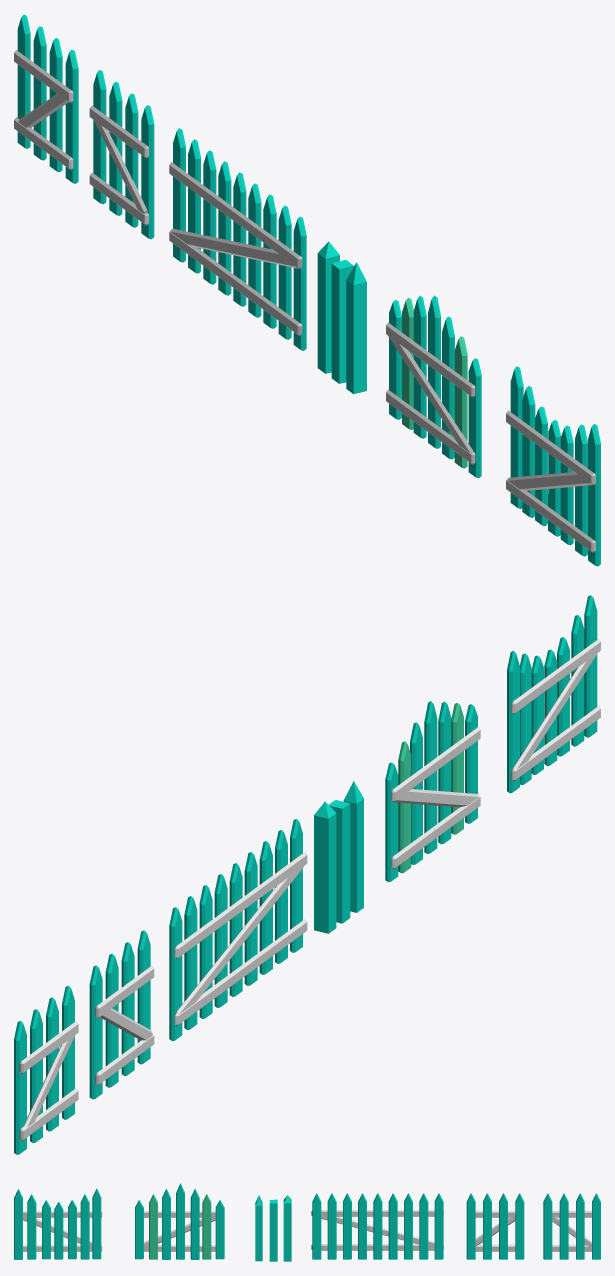
File: Try1Fence.fbx
The picture shows the model from 3 angles, top to bottom: view 1: azimuth 30°, elevation 25°; view 2: azimuth 150°, elevation 25°; view 3: azimuth 270°, elevation 25°; orthographic projection. The views are drawn at different scales.
Parts seen in each view (by area): view 1: VerticalStick, VerticalStick.008, VerticalStick.011, Pilar1_2, VerticalStick.002, VerticalStick.001, HorizontalStick, HorizontalStick.004, HorizontalStick.003, HorizontalStick.002, HorizontalStick.001, diagonalStick (+3 smaller); view 2: VerticalStick, VerticalStick.008, VerticalStick.011, Pilar1_2, VerticalStick.001, VerticalStick.002, HorizontalStick, HorizontalStick.004, HorizontalStick.003, diagonalStick, HorizontalStick.001, HorizontalStick.002 (+4 smaller); view 3: VerticalStick, VerticalStick.008, VerticalStick.011, VerticalStick.001, VerticalStick.002, Pilar1_2, HorizontalStick, HorizontalStick.004, HorizontalStick.003, diagonalStick, HorizontalStick.002, HorizontalStick.001 (+4 smaller).
Boxes of the visible parts, x1=… form: VerticalStick: x1=173, y1=128, x2=306, y2=350; VerticalStick.008: x1=389, y1=295, x2=481, y2=477; VerticalStick.011: x1=510, y1=366, x2=600, y2=566; Pilar1_2: x1=317, y1=241, x2=366, y2=394; VerticalStick.002: x1=17, y1=14, x2=78, y2=183; VerticalStick.001: x1=93, y1=70, x2=154, y2=239; HorizontalStick: x1=169, y1=162, x2=302, y2=335; HorizontalStick.004: x1=506, y1=410, x2=595, y2=552; HorizontalStick.003: x1=386, y1=322, x2=475, y2=464; HorizontalStick.002: x1=14, y1=50, x2=73, y2=170; HorizontalStick.001: x1=89, y1=105, x2=148, y2=225; diagonalStick: x1=171, y1=228, x2=297, y2=268; VerticalStick: x1=169, y1=818, x2=302, y2=1041; VerticalStick.008: x1=385, y1=701, x2=477, y2=882; VerticalStick.011: x1=507, y1=595, x2=597, y2=793; Pilar1_2: x1=314, y1=781, x2=363, y2=933; VerticalStick.001: x1=89, y1=930, x2=150, y2=1099; VerticalStick.002: x1=14, y1=985, x2=74, y2=1154; HorizontalStick: x1=174, y1=852, x2=307, y2=1026; HorizontalStick.004: x1=511, y1=639, x2=600, y2=781; HorizontalStick.003: x1=391, y1=727, x2=480, y2=869; diagonalStick: x1=176, y1=866, x2=304, y2=1014; HorizontalStick.001: x1=95, y1=966, x2=154, y2=1085; HorizontalStick.002: x1=19, y1=1021, x2=78, y2=1141; VerticalStick: x1=312, y1=1193, x2=443, y2=1259; VerticalStick.008: x1=135, y1=1183, x2=224, y2=1259; VerticalStick.011: x1=14, y1=1188, x2=101, y2=1259; VerticalStick.001: x1=466, y1=1193, x2=524, y2=1259; VerticalStick.002: x1=543, y1=1193, x2=600, y2=1259; Pilar1_2: x1=255, y1=1195, x2=291, y2=1261; HorizontalStick: x1=311, y1=1210, x2=443, y2=1250; HorizontalStick.004: x1=23, y1=1211, x2=102, y2=1251; HorizontalStick.003: x1=144, y1=1211, x2=215, y2=1251; diagonalStick: x1=321, y1=1216, x2=434, y2=1247; HorizontalStick.002: x1=552, y1=1210, x2=591, y2=1251; HorizontalStick.001: x1=475, y1=1210, x2=515, y2=1251.
Size of the model in its own units: 26.62 by 263 by 1825.
